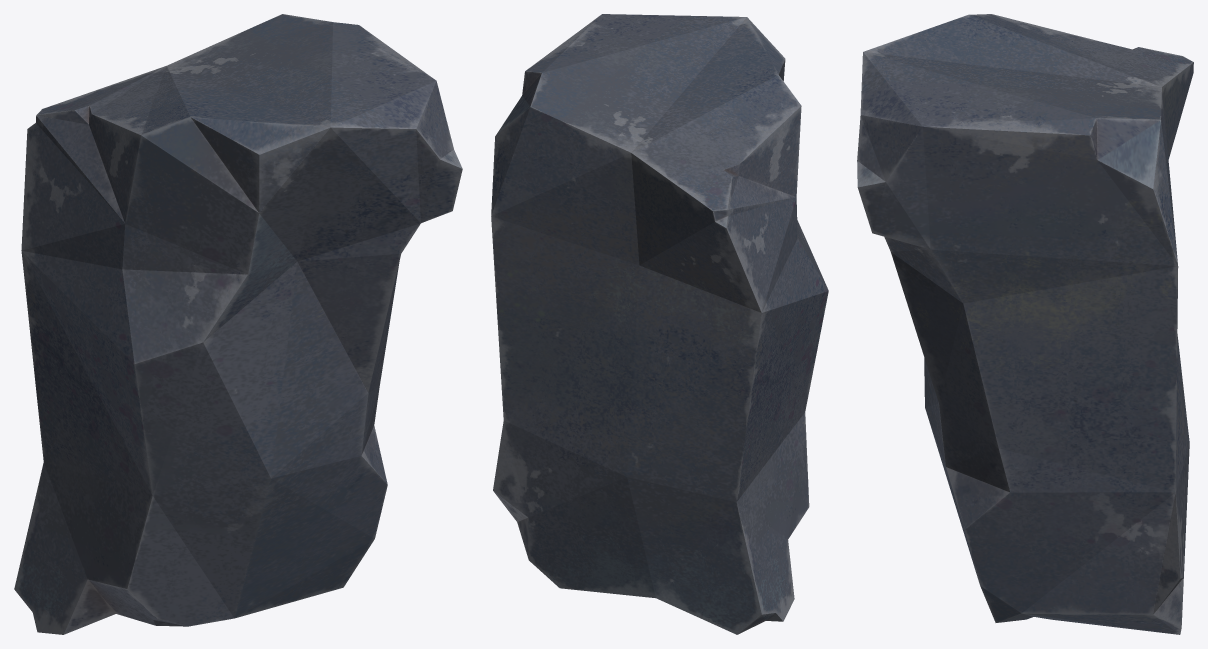
The model's file is Rock1.glb.
3 renders of one model, left to right at view 1: azimuth 30°, elevation 25°; view 2: azimuth 150°, elevation 25°; view 3: azimuth 270°, elevation 25°, orthographic. The views are drawn at different scales.
Visible parts, largest first — view 1: Object_71; view 2: Object_71; view 3: Object_71.
Boxes of the visible parts, left/top/right/bottom form: Object_71: left=14, top=14, right=462, bottom=634; Object_71: left=491, top=14, right=828, bottom=634; Object_71: left=857, top=14, right=1193, bottom=634.
Bounding box in the file's own units: 2.26 × 3.88 × 2.1.
1 material, 1 textured.
